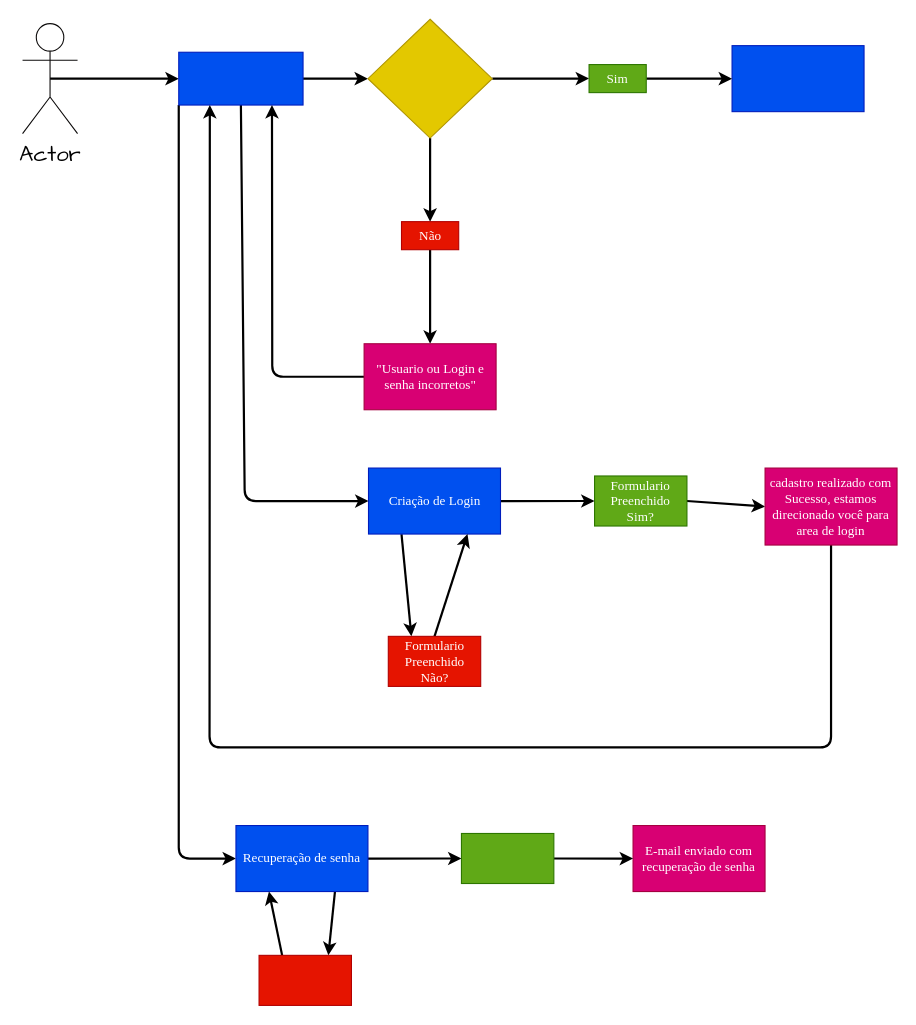
Image size: 916x1025. Some labels were removed from this diagram. Here are the shapes that lost their labels. From the top down, the centre of each, then its label:
At point (240, 78): "Tela Login".
At point (429, 78): "Usuario e senha correto?".
At point (797, 78): "Menu do Usuario".
At point (507, 858): "E-mail Valido SIm".
At point (304, 979): "E-mail Valido Não".
